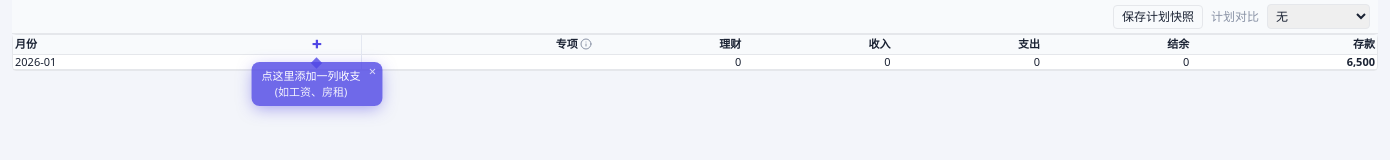
Test case: MonthlyTable › 未修正存款但存款变化时也显示快照偏差（如改了收入）
This screenshot has width=1390, height=160.
Step 1. Select "2026-01 计划" in the dropdown named "选择对比快照" → (1318, 16), box left=1267, top=4, right=1370, bottom=29
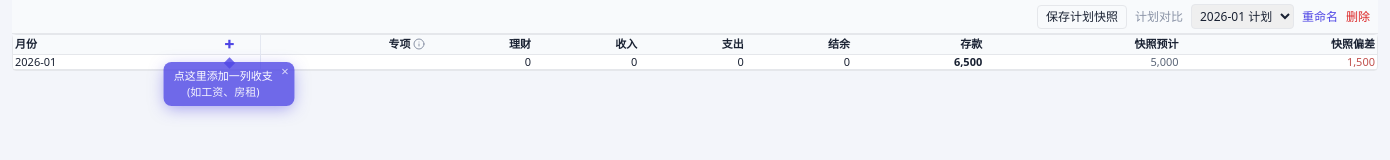
Expected: the table shows "1,500", left=1347, top=54, right=1375, bottom=69
